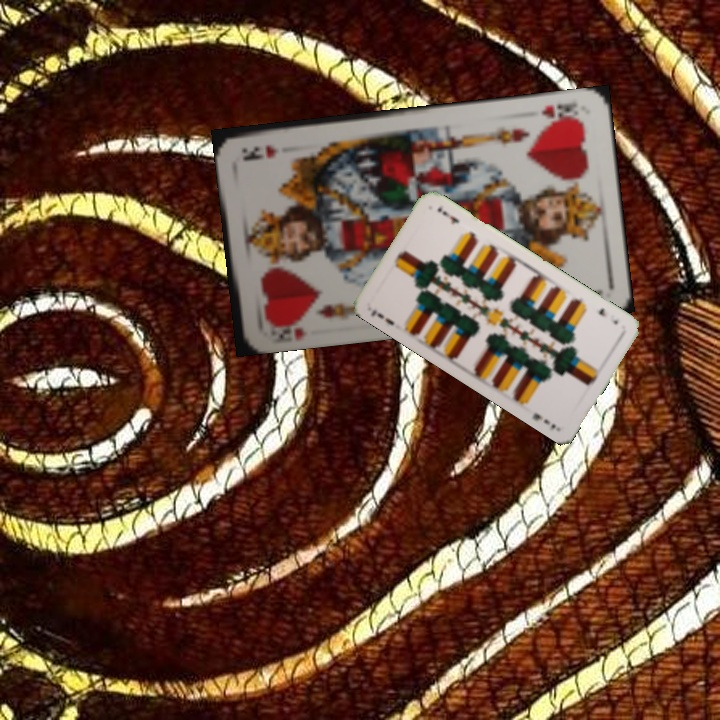E7: (367, 305, 397, 328), (594, 304, 621, 327)
HK: (262, 314, 310, 342), (538, 98, 581, 125)
